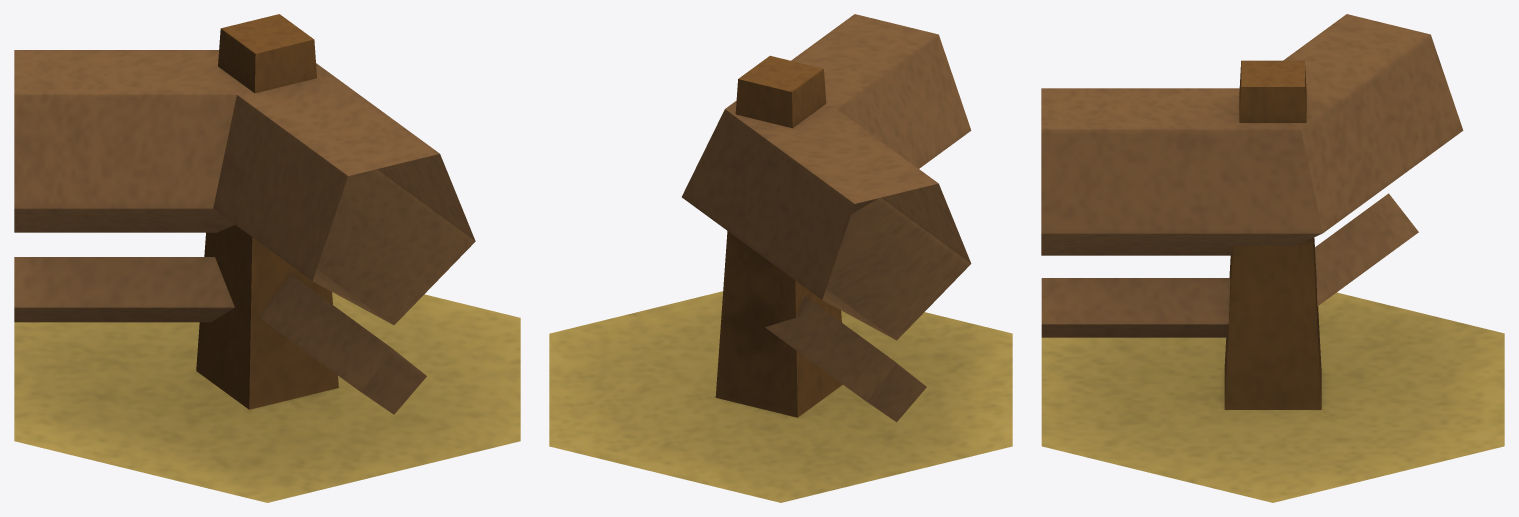
File: BarriereDesert_L1.FBX
3 renders of one model, left to right at view 1: azimuth 30°, elevation 25°; view 2: azimuth 150°, elevation 25°; view 3: azimuth 270°, elevation 25°, orthographic. The views are drawn at different scales.
Parts seen in each view (by area): view 1: BarriereDesert_L1; view 2: BarriereDesert_L1; view 3: BarriereDesert_L1.
Part boxes in pixels (x1,y1,x2,y2): BarriereDesert_L1: (14, 14, 520, 502); BarriereDesert_L1: (549, 14, 1012, 502); BarriereDesert_L1: (1041, 14, 1504, 502).
Size of the model in its own units: 1 by 0.6525 by 0.8661.
